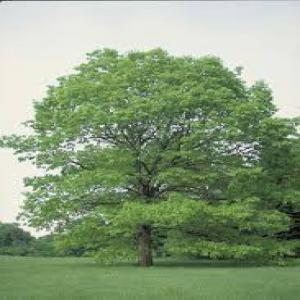Tree: (21, 46, 298, 267)
